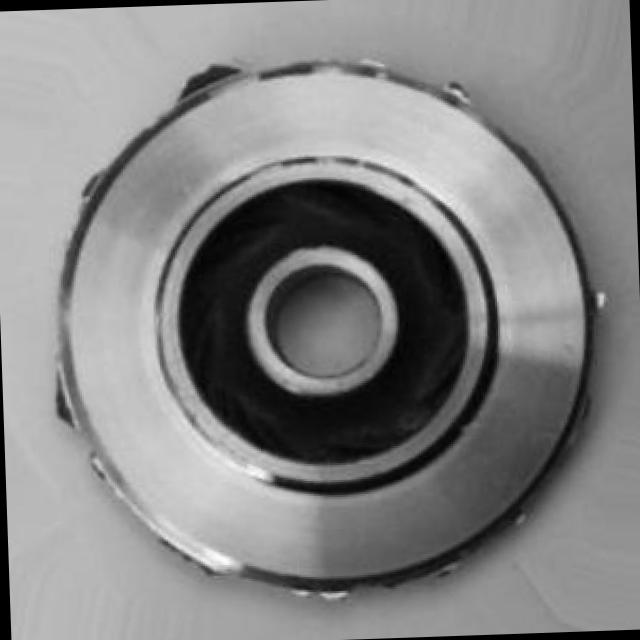Defect: (176, 58, 247, 92)
